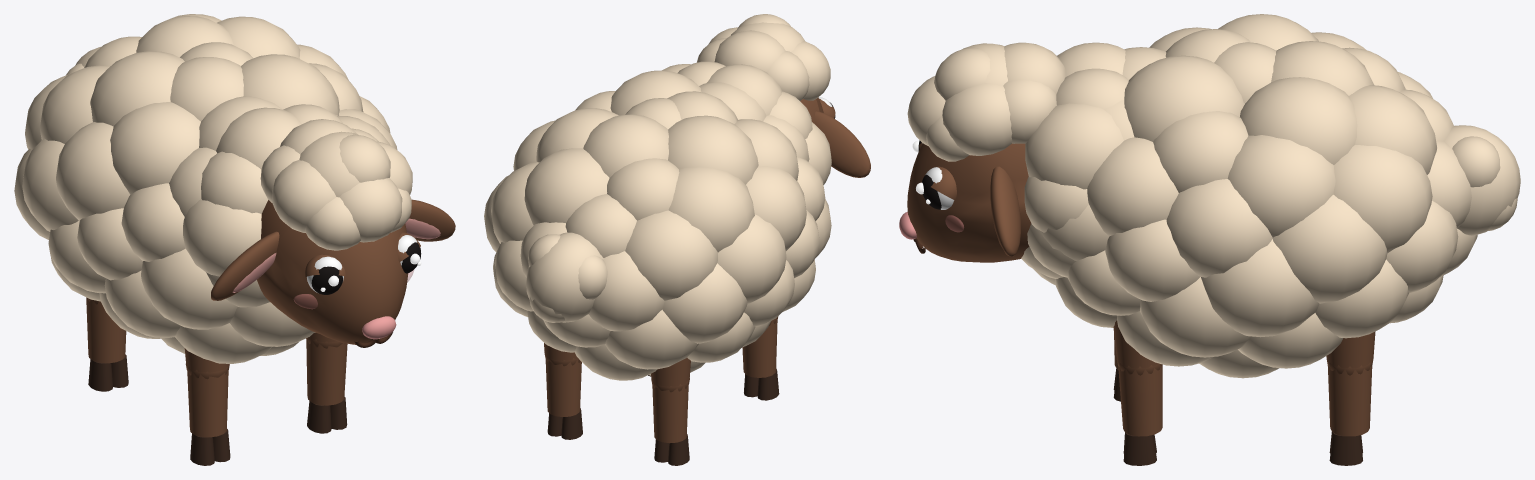
The model's file is hayvan_koyun.glb.
The picture shows the model from 3 angles, left to right: view 1: azimuth 30°, elevation 25°; view 2: azimuth 150°, elevation 25°; view 3: azimuth 270°, elevation 25°; orthographic projection. The views are drawn at different scales.
Visible parts, largest first — view 1: WoolBody, WoolCrown, SheepFace, Leg_FrontLeft_Knee, Leg_FrontRight_Knee, LeftEar, Leg_BackLeft_Knee, RightEar, LeftEye, Leg_FrontLeft_Hoof, Leg_BackLeft_Hoof, HeadPivot (+3 smaller); view 2: WoolBody, WoolCrown, TailPivot, Leg_BackLeft_Knee, LeftEar, Leg_BackRight_Knee, Leg_FrontLeft_Knee, Leg_BackRight_Hoof, Leg_BackLeft_Hoof, Leg_BackLeft, Leg_FrontLeft_Hoof; view 3: WoolBody, WoolCrown, SheepFace, TailPivot, Leg_BackRight_Knee, Leg_FrontRight_Knee, RightEar, RightEye, Leg_BackRight, Leg_FrontRight_Hoof, Leg_BackRight_Hoof, Leg_FrontRight (+1 smaller).
Boxes of the visible parts, <box> form: WoolBody: <box>14,14,397,363</box>; WoolCrown: <box>260,119,412,250</box>; SheepFace: <box>257,200,408,344</box>; Leg_FrontLeft_Knee: <box>185,363,229,437</box>; Leg_FrontRight_Knee: <box>306,337,347,405</box>; LeftEar: <box>211,231,279,300</box>; Leg_BackLeft_Knee: <box>86,297,126,363</box>; RightEar: <box>405,199,455,241</box>; LeftEye: <box>305,254,345,294</box>; Leg_FrontLeft_Hoof: <box>190,429,230,465</box>; Leg_BackLeft_Hoof: <box>88,354,128,391</box>; HeadPivot: <box>294,270,413,347</box>; WoolBody: <box>484,61,831,380</box>; WoolCrown: <box>697,14,830,100</box>; TailPivot: <box>526,232,607,322</box>; Leg_BackLeft_Knee: <box>651,378,689,443</box>; LeftEar: <box>814,110,870,177</box>; Leg_BackRight_Knee: <box>544,352,581,416</box>; Leg_FrontLeft_Knee: <box>742,316,778,377</box>; Leg_BackRight_Hoof: <box>547,408,582,439</box>; Leg_BackLeft_Hoof: <box>654,434,689,465</box>; Leg_BackLeft: <box>651,357,690,386</box>; Leg_FrontLeft_Hoof: <box>744,368,779,400</box>; WoolBody: <box>1021,14,1477,378</box>; WoolCrown: <box>907,42,1065,161</box>; SheepFace: <box>907,143,1031,262</box>; TailPivot: <box>1444,125,1520,235</box>; Leg_BackRight_Knee: <box>1326,359,1373,436</box>; Leg_FrontRight_Knee: <box>1116,359,1162,436</box>; RightEar: <box>990,166,1020,256</box>; RightEye: <box>916,166,956,209</box>; Leg_BackRight: <box>1326,331,1375,368</box>; Leg_FrontRight_Hoof: <box>1123,432,1156,465</box>; Leg_BackRight_Hoof: <box>1329,432,1362,465</box>; Leg_FrontRight: <box>1113,320,1158,368</box>.
Size of the model in its own units: 0.8849 by 0.931 by 1.38.
